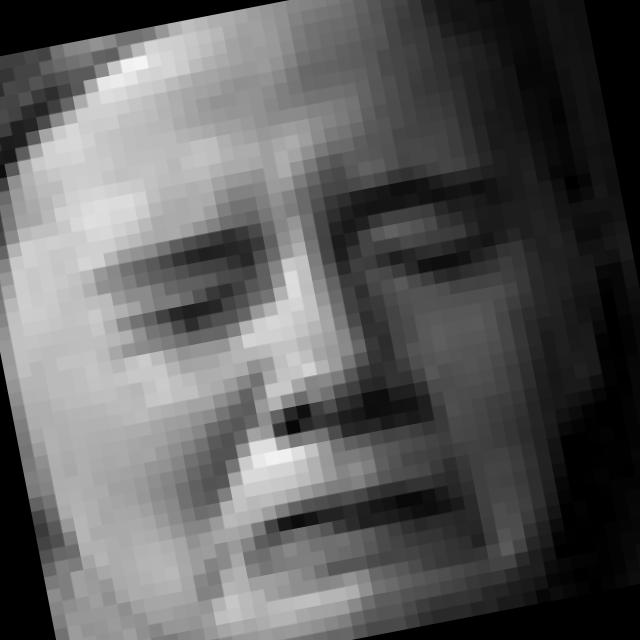sad: (56, 114, 582, 639)
